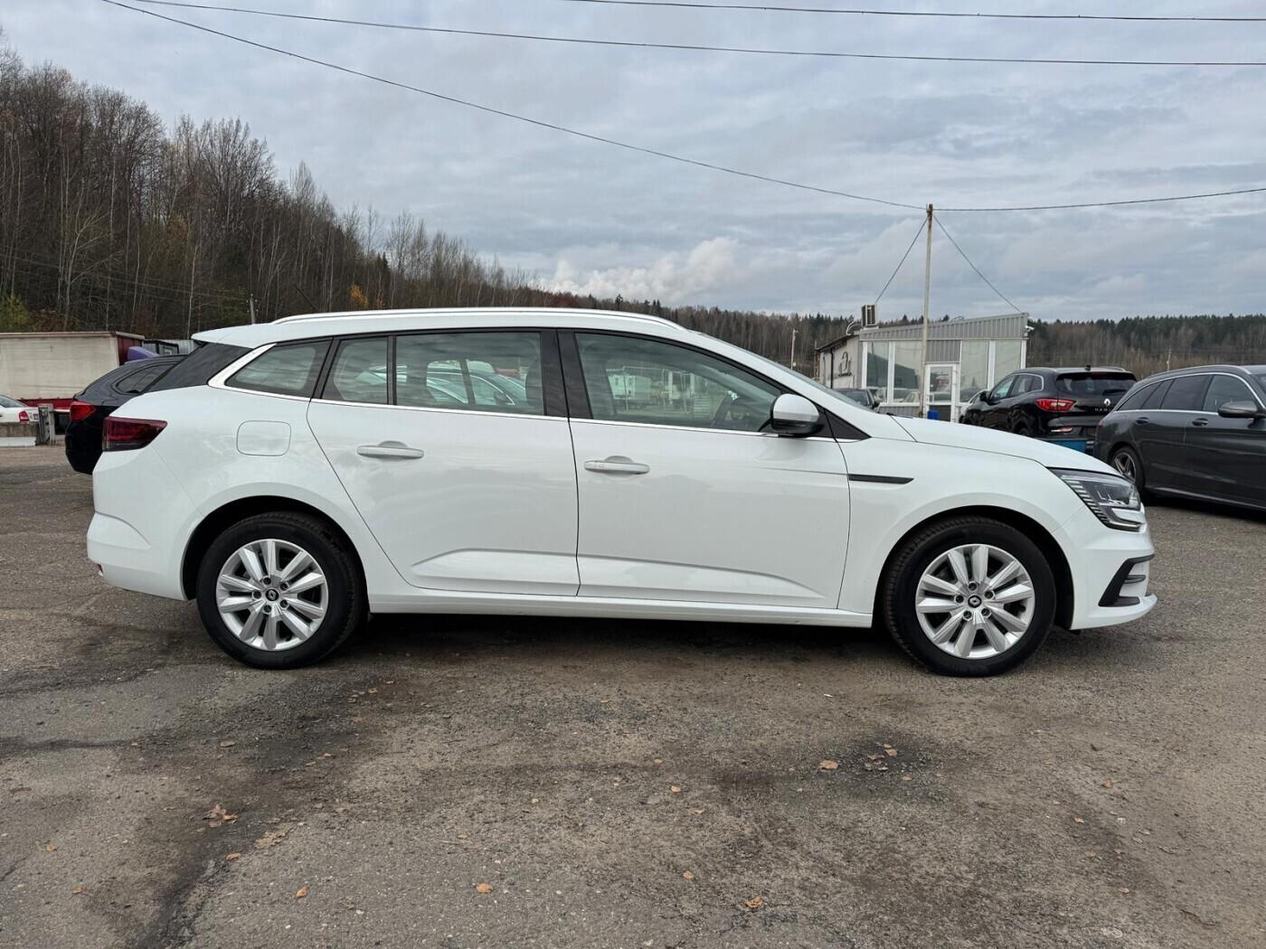Megane_2020: (89, 310, 1147, 717)
